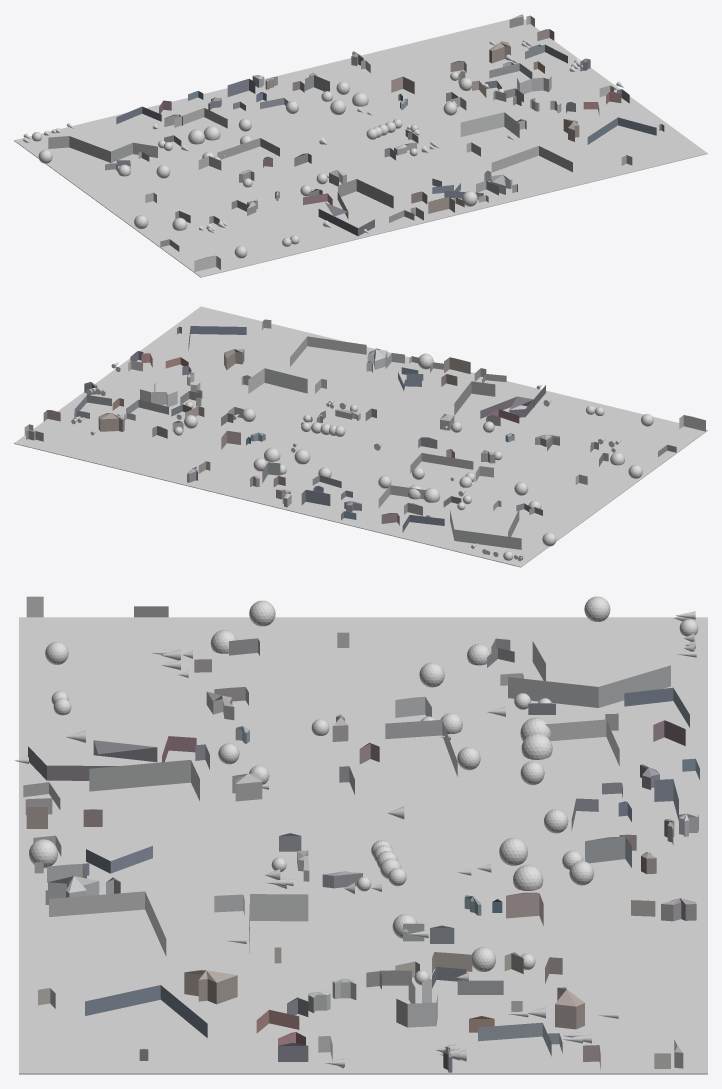
Rendered from scene_1b38281a-df31-4baf-b4cb-c98a980b48c7.glb.
The picture shows the model from 3 angles, top to bottom: view 1: azimuth 30°, elevation 25°; view 2: azimuth 150°, elevation 25°; view 3: azimuth 270°, elevation 25°; orthographic projection. The views are drawn at different scales.
Parts seen in each view (by area): view 1: Ground_Base, BLD-008, BLD-057, BLD-078, BLD-074, BLD-076, BLD-073, BLD-039, BLD-019, BLD-042; view 2: Ground_Base, BLD-008, BLD-057, BLD-078, BLD-074, BLD-039, BLD-076, BLD-073, BLD-042, BLD-022; view 3: Ground_Base, BLD-008, BLD-076, BLD-078, BLD-074, BLD-073, BLD-057, BLD-069, BLD-042, BLD-019, BLD-039, BLD-016 (+8 smaller).
Part boxes in pixels (box(x1,y1,x2,y2)): Ground_Base: box(14, 19, 707, 277); BLD-008: box(48, 136, 157, 162); BLD-057: box(460, 112, 519, 137); BLD-078: box(491, 146, 572, 172); BLD-074: box(318, 192, 374, 236); BLD-076: box(338, 179, 393, 208); BLD-073: box(587, 117, 656, 144); BLD-039: box(217, 138, 279, 159); BLD-019: box(174, 108, 227, 128); BLD-042: box(517, 76, 551, 94); Ground_Base: box(14, 306, 707, 567); BLD-008: box(450, 509, 521, 549); BLD-057: box(248, 368, 307, 393); BLD-078: box(290, 336, 366, 366); BLD-074: box(480, 385, 545, 418); BLD-039: box(410, 453, 473, 473); BLD-076: box(454, 381, 495, 415); BLD-073: box(188, 326, 246, 350); BLD-042: box(140, 383, 177, 406); BLD-022: box(98, 413, 124, 431); Ground_Base: box(19, 617, 707, 1074); BLD-008: box(508, 641, 670, 707); BLD-076: box(89, 759, 199, 800); BLD-078: box(49, 891, 166, 956); BLD-074: box(28, 740, 157, 780); BLD-073: box(85, 985, 207, 1037); BLD-057: box(249, 894, 308, 953); BLD-069: box(184, 970, 237, 1004); BLD-042: box(396, 976, 437, 1027); BLD-019: box(545, 719, 619, 765); BLD-039: box(385, 720, 457, 776); BLD-016: box(585, 836, 631, 867).
Bounding box in the file's own units: 342 × 15.71 × 217.
